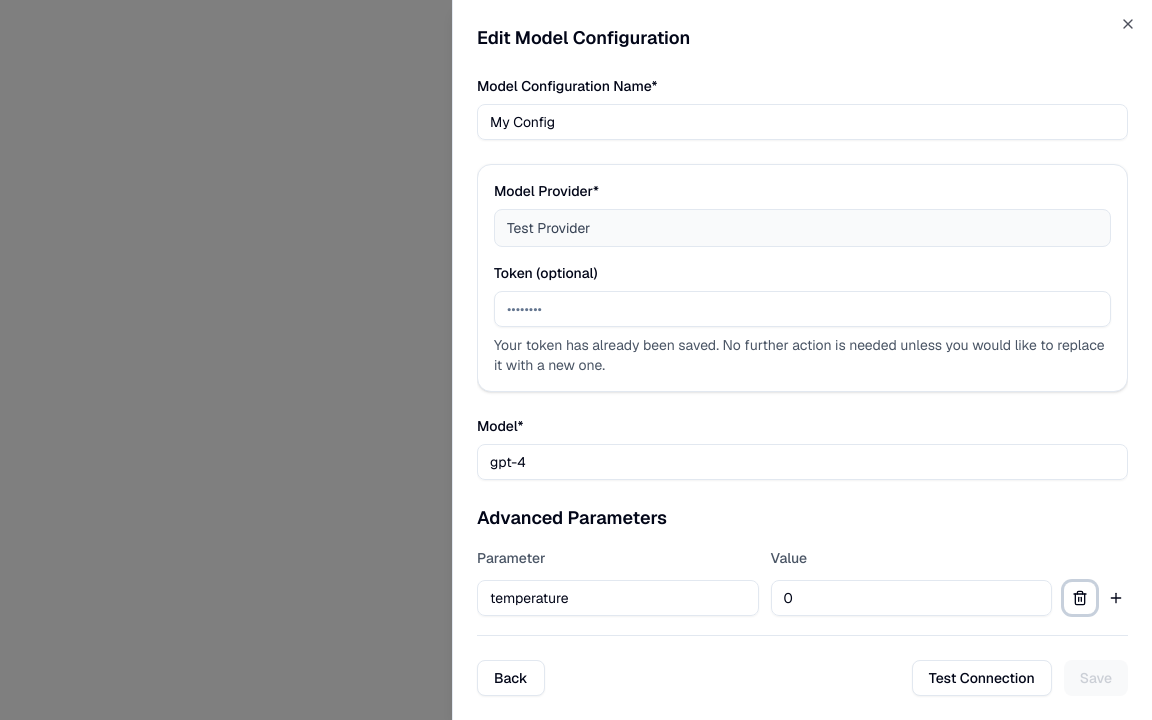
Scenario: EditModelSheet › enables save after a failed connection test and re-gates when the token changes
Expected: the button "Save" is disabled, [1064,660,1128,696]
Click the button "Test Connection". click: coordinates (982, 678)
box: [912,660,1052,696]
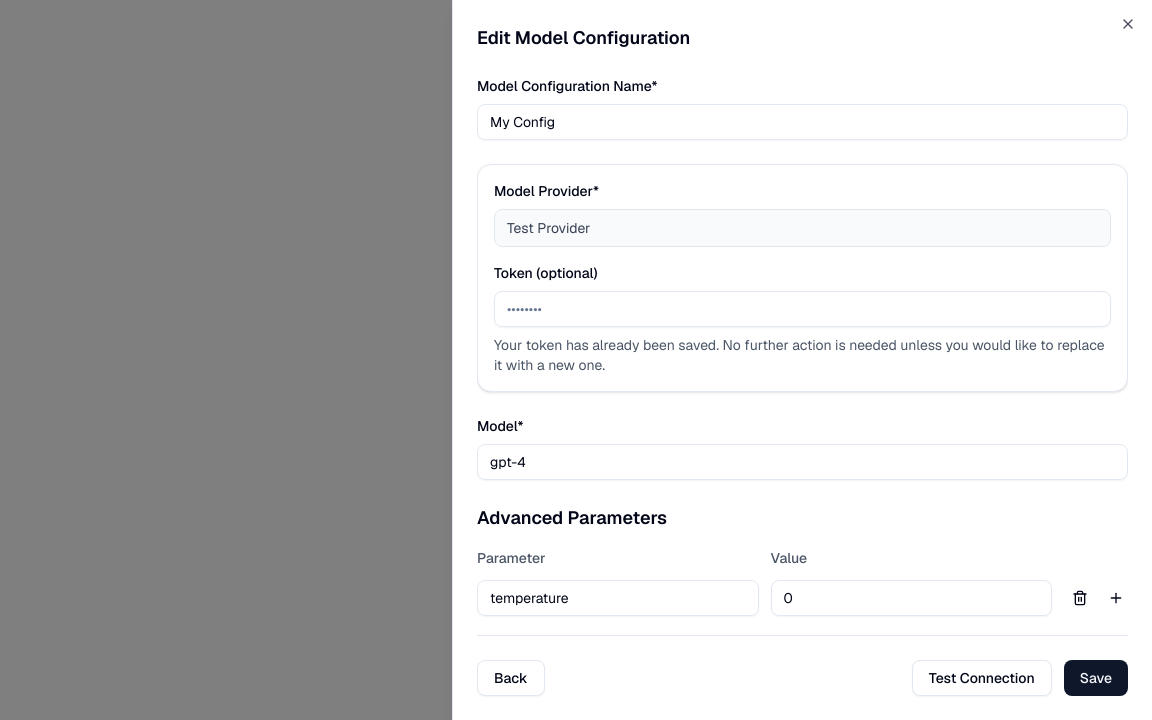
Now the button "Save" is enabled, box [1064,660,1128,696]
Type "sk-new-token" into the password field labelled "Token (optional)". click: coordinates (802, 309)
box: [494,291,1111,327]
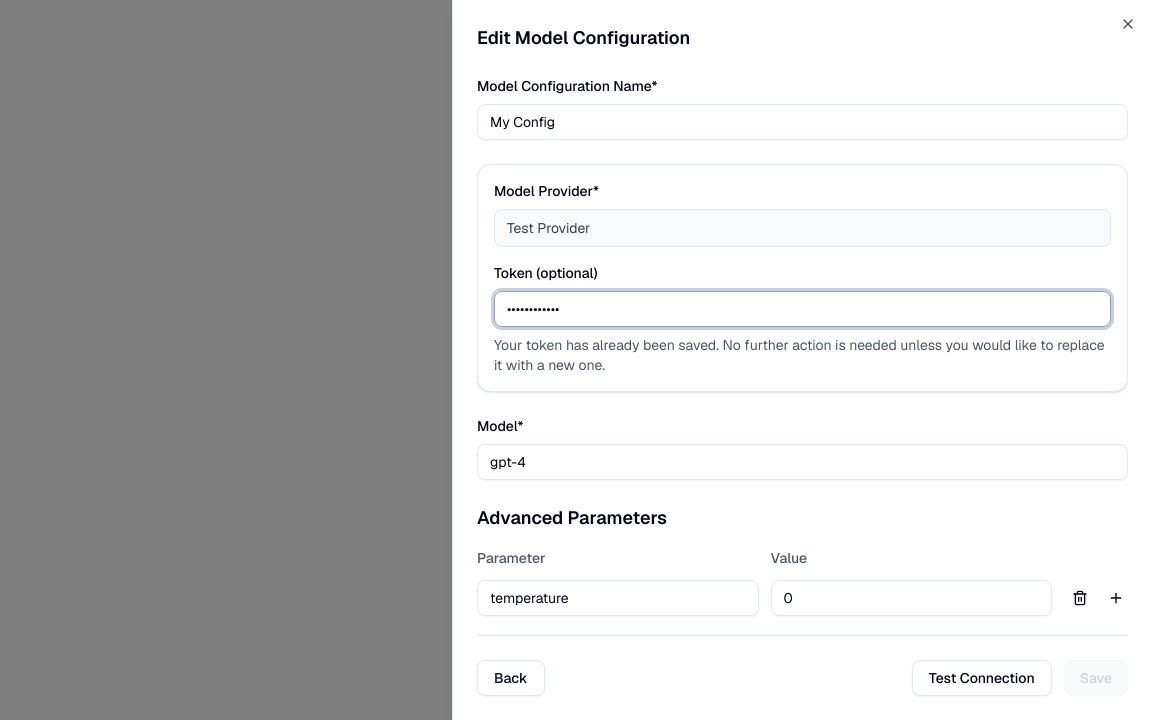
Now the button "Save" is disabled, box [1064,660,1128,696]
